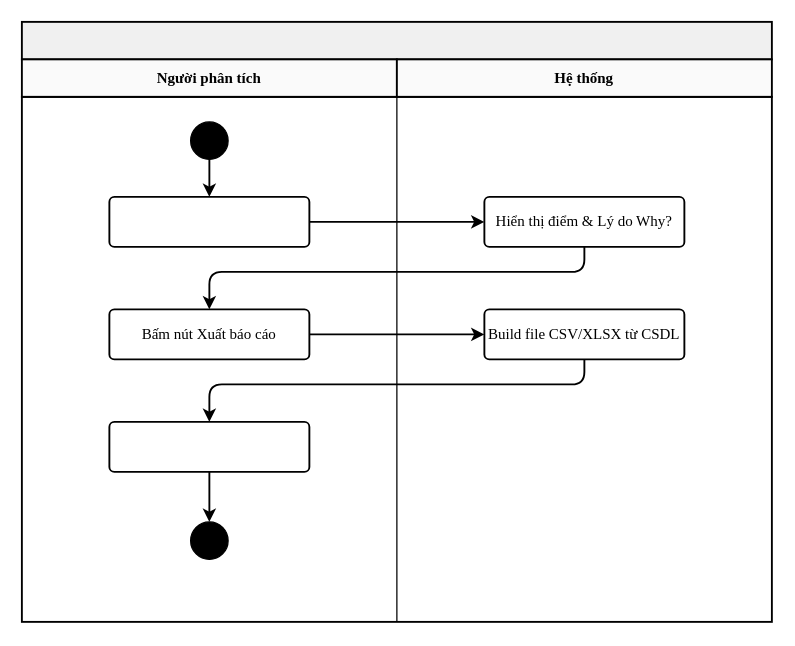
Image size: 795x646. Some labels were removed from this diagram. The shapes that lost their labels are listed below. From the top down, each one's centre as x and y in pixels, then its label:
the point at 396,40: QUY TRÌNH XEM CHI TIẾT WHY VÀ XUẤT BÁO CÁO
the point at 209,221: Chọn xem chi tiết giao dịch
the point at 209,446: Tải file về máy
